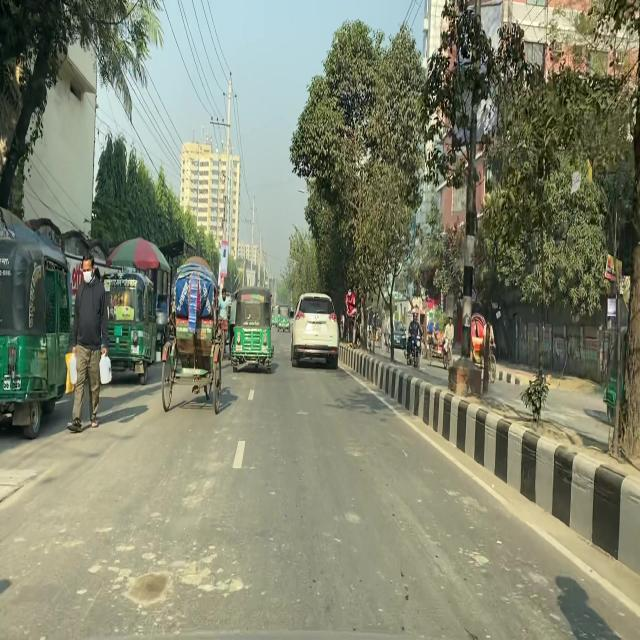car: (289, 292, 339, 371)
motorbike: (404, 327, 424, 373)
